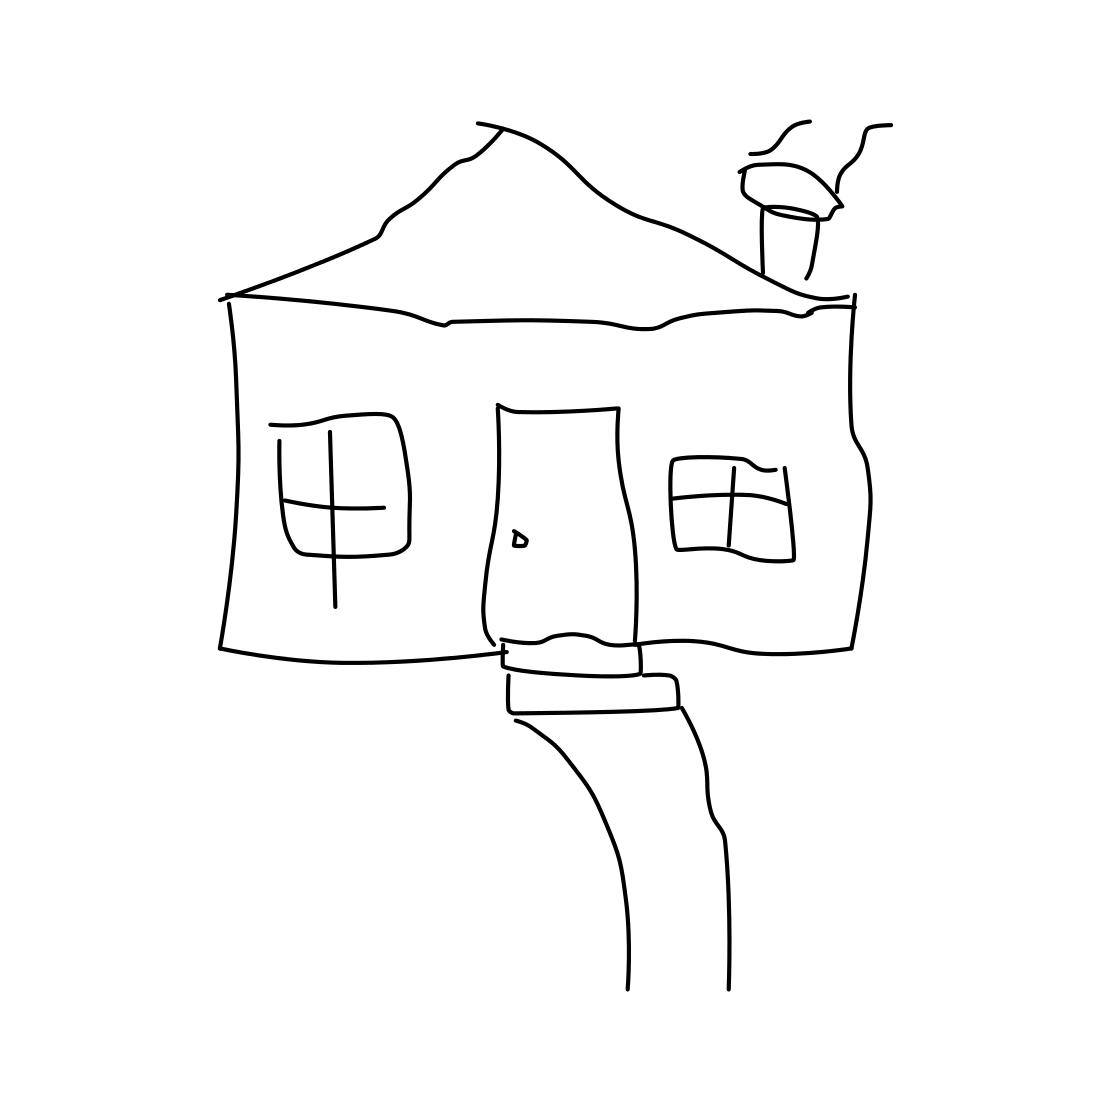House: (162, 89, 964, 662)
